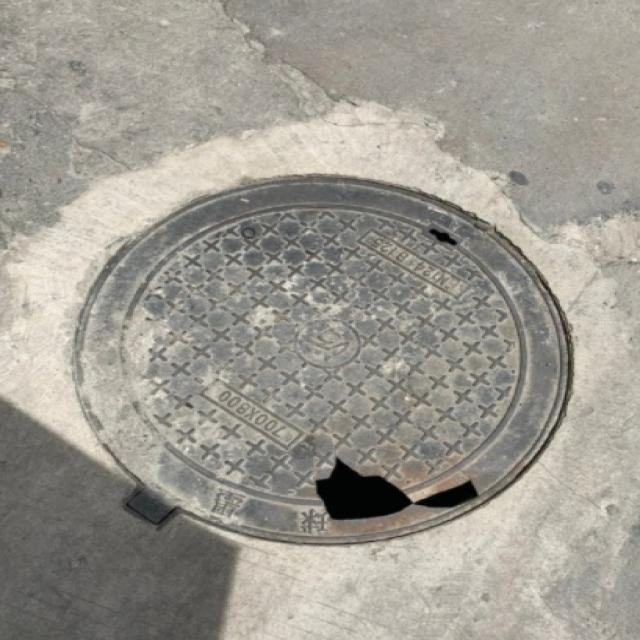Faulty: (51, 182, 605, 560)
